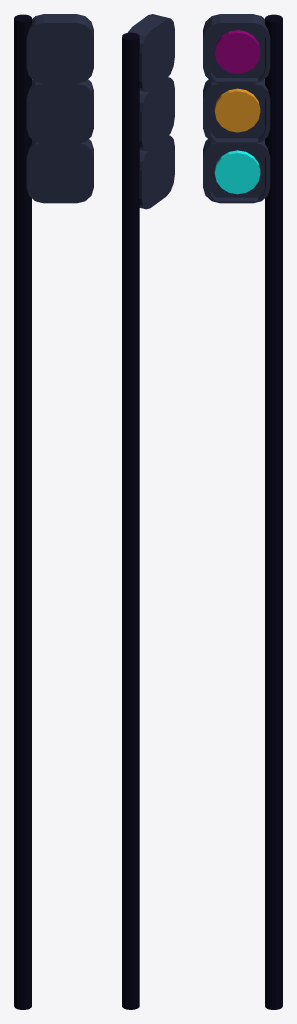
File: SM_traffic_lights.fbx
3 views of the same model, side by side, from view 1: azimuth 90°, elevation 25°; view 2: azimuth 150°, elevation 25°; view 3: azimuth 270°, elevation 25° (orthographic).
Visible parts, largest first — view 1: TRAFFIC LIGHTS; view 2: TRAFFIC LIGHTS; view 3: TRAFFIC LIGHTS.
Boxes of the visible parts, box(x1,y1,x2,y2) form: TRAFFIC LIGHTS: box(14, 14, 93, 1009); TRAFFIC LIGHTS: box(122, 14, 174, 1009); TRAFFIC LIGHTS: box(203, 14, 282, 1009).
Bounding box in the file's own units: 14.11 × 725 × 53.11.
